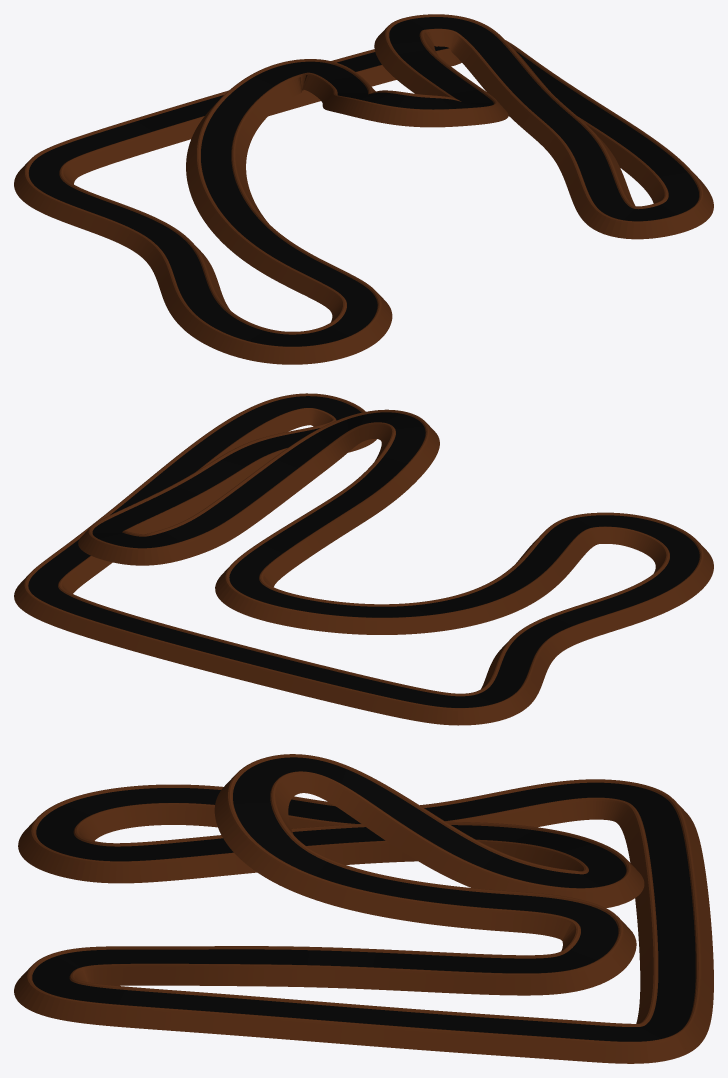
Rendered from CARROAD1.fbx.
3 renders of one model, top to bottom at view 1: azimuth 30°, elevation 25°; view 2: azimuth 150°, elevation 25°; view 3: azimuth 270°, elevation 25°, orthographic. The views are drawn at different scales.
Visible parts, largest first — view 1: ROAD_TILE; view 2: ROAD_TILE; view 3: ROAD_TILE.
Boxes of the visible parts, x1,y1,x2,y2 form: ROAD_TILE: (14, 14, 713, 364); ROAD_TILE: (14, 393, 713, 725); ROAD_TILE: (14, 754, 713, 1063).
Bounding box in the file's own units: 3003 × 816 × 2923.
